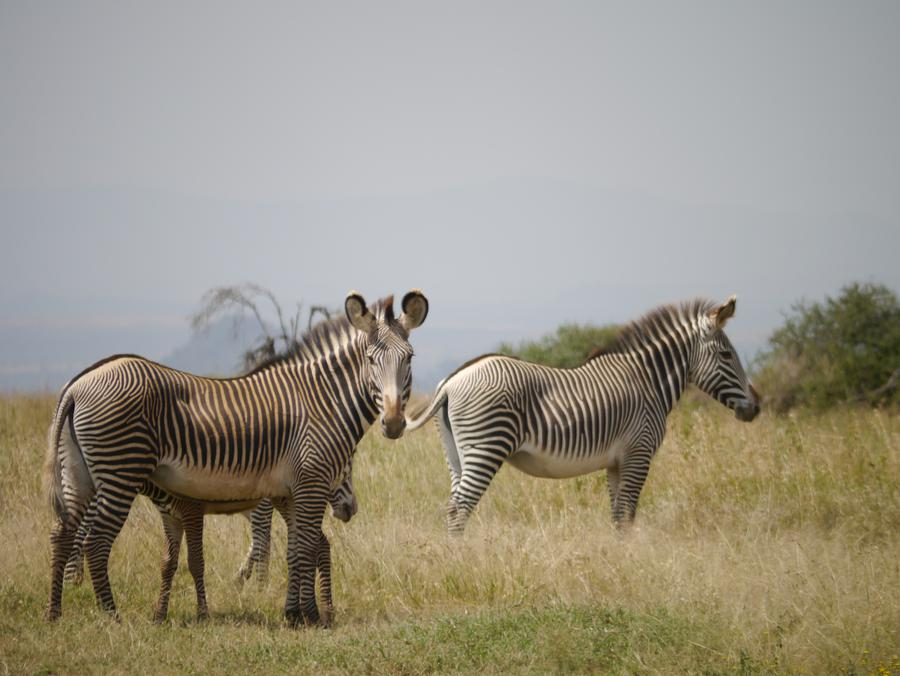zebra_grevys: (59, 333, 329, 497), (436, 341, 654, 459)
